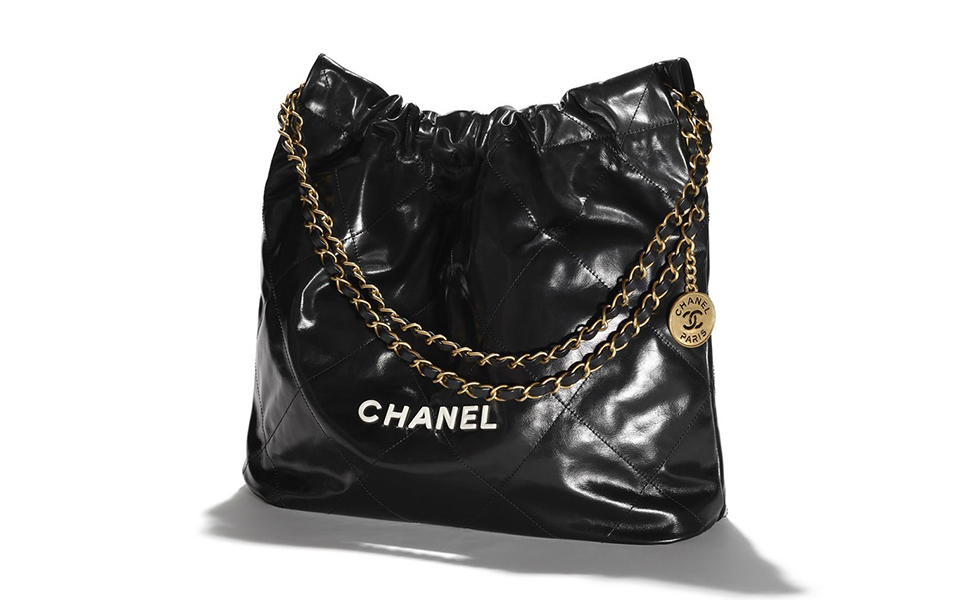channel: (219, 19, 743, 550), (340, 378, 519, 449), (665, 302, 718, 357)
